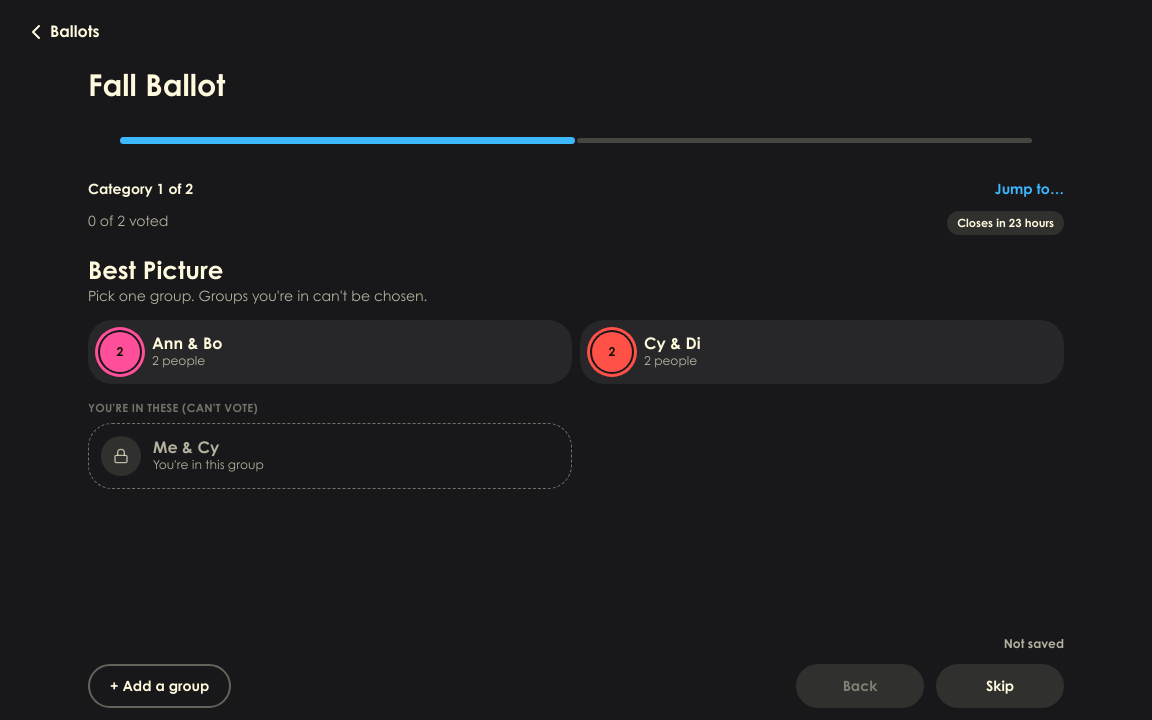
VotePage group category › the footer Add a group button (desktop) opens the same sheet
The image size is (1152, 720).
Expected: the element "Best Picture" is shown, [88,255,1064,489]
Click the button "+ Add a group": (160, 686) [88,664,231,708]
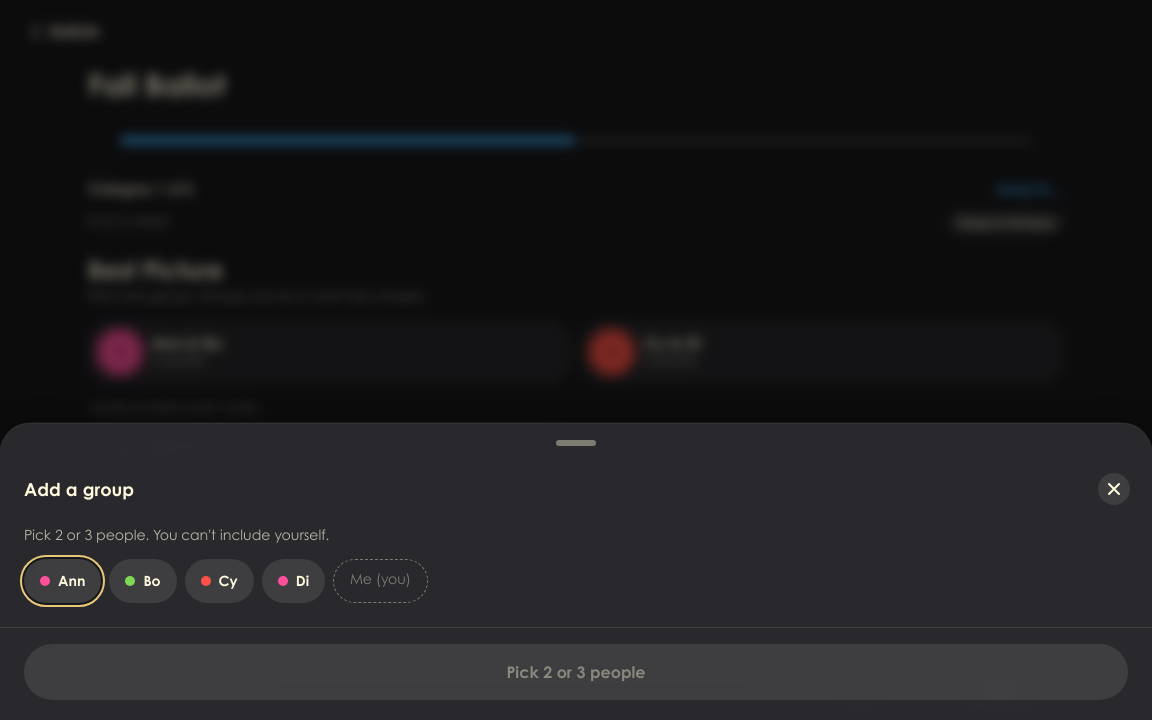
Expected: the button "Pick 2 or 3 people" is shown, [24,644,1128,700]
